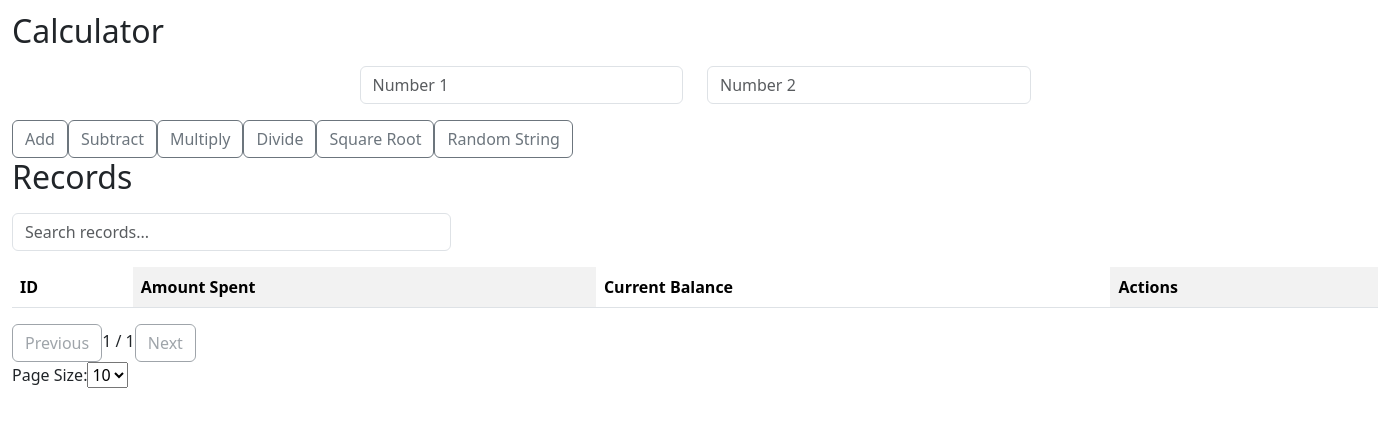
Test: performs an addition operation
In the number field with placeholder "Number 1": (521, 85) [360,66,683,104], type "10"
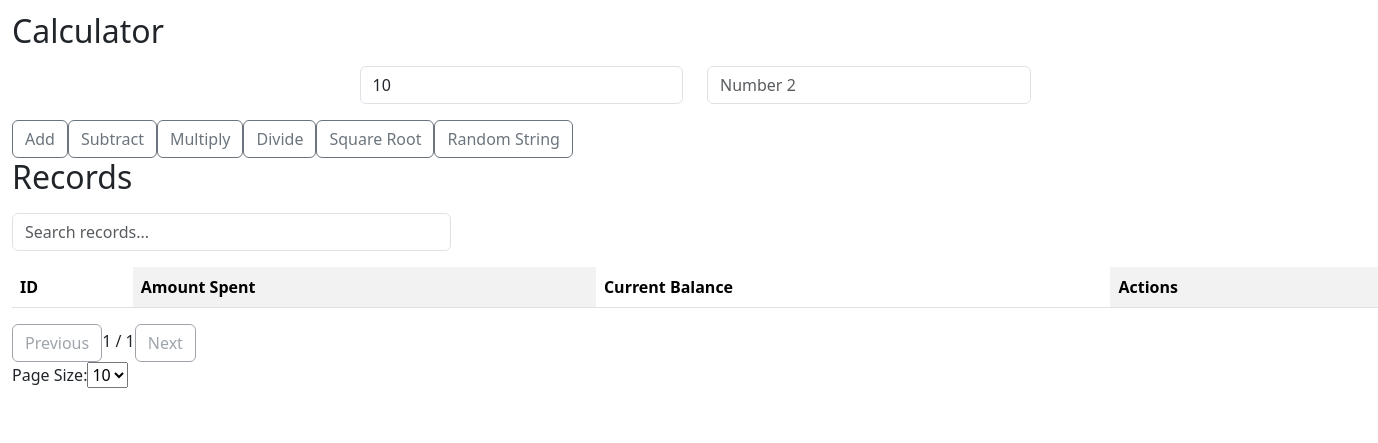
In the number field with placeholder "Number 2": (869, 85) [707,66,1030,104], type "20"
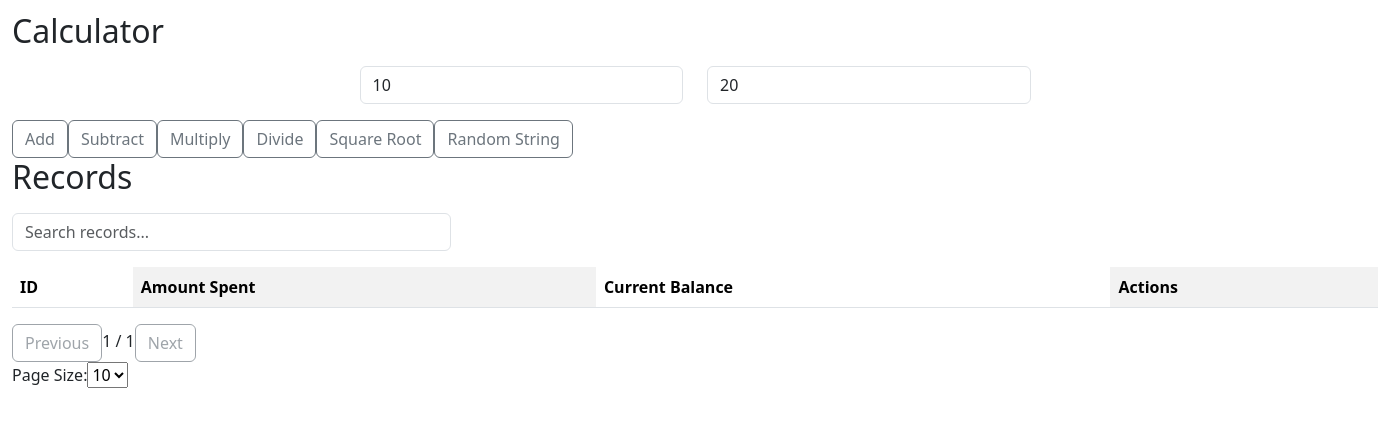
Click the button "Add": (40, 139) [12,120,68,158]
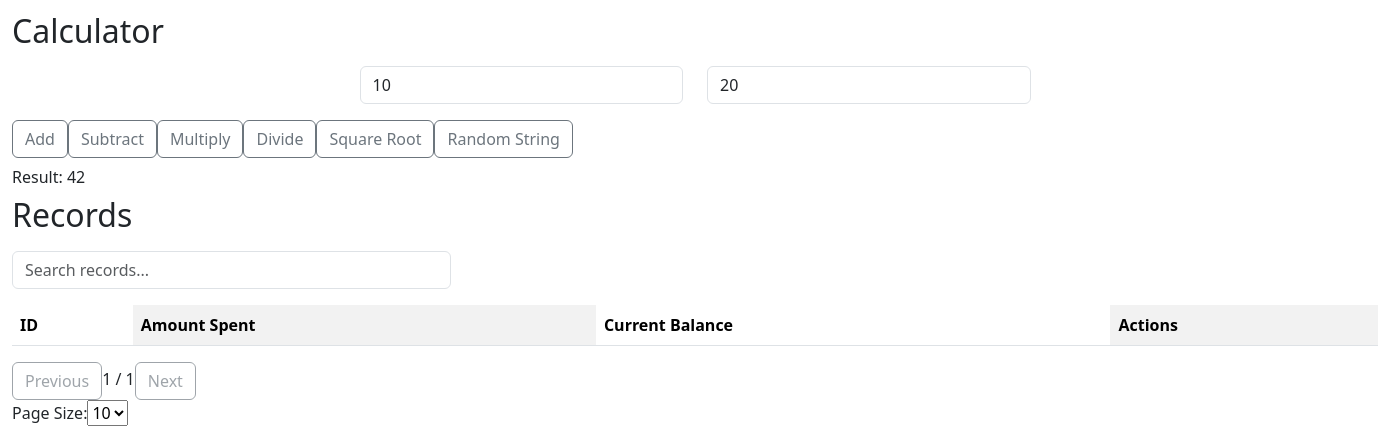
Now the text "Result: 42" is shown, box [12,166,85,188]
